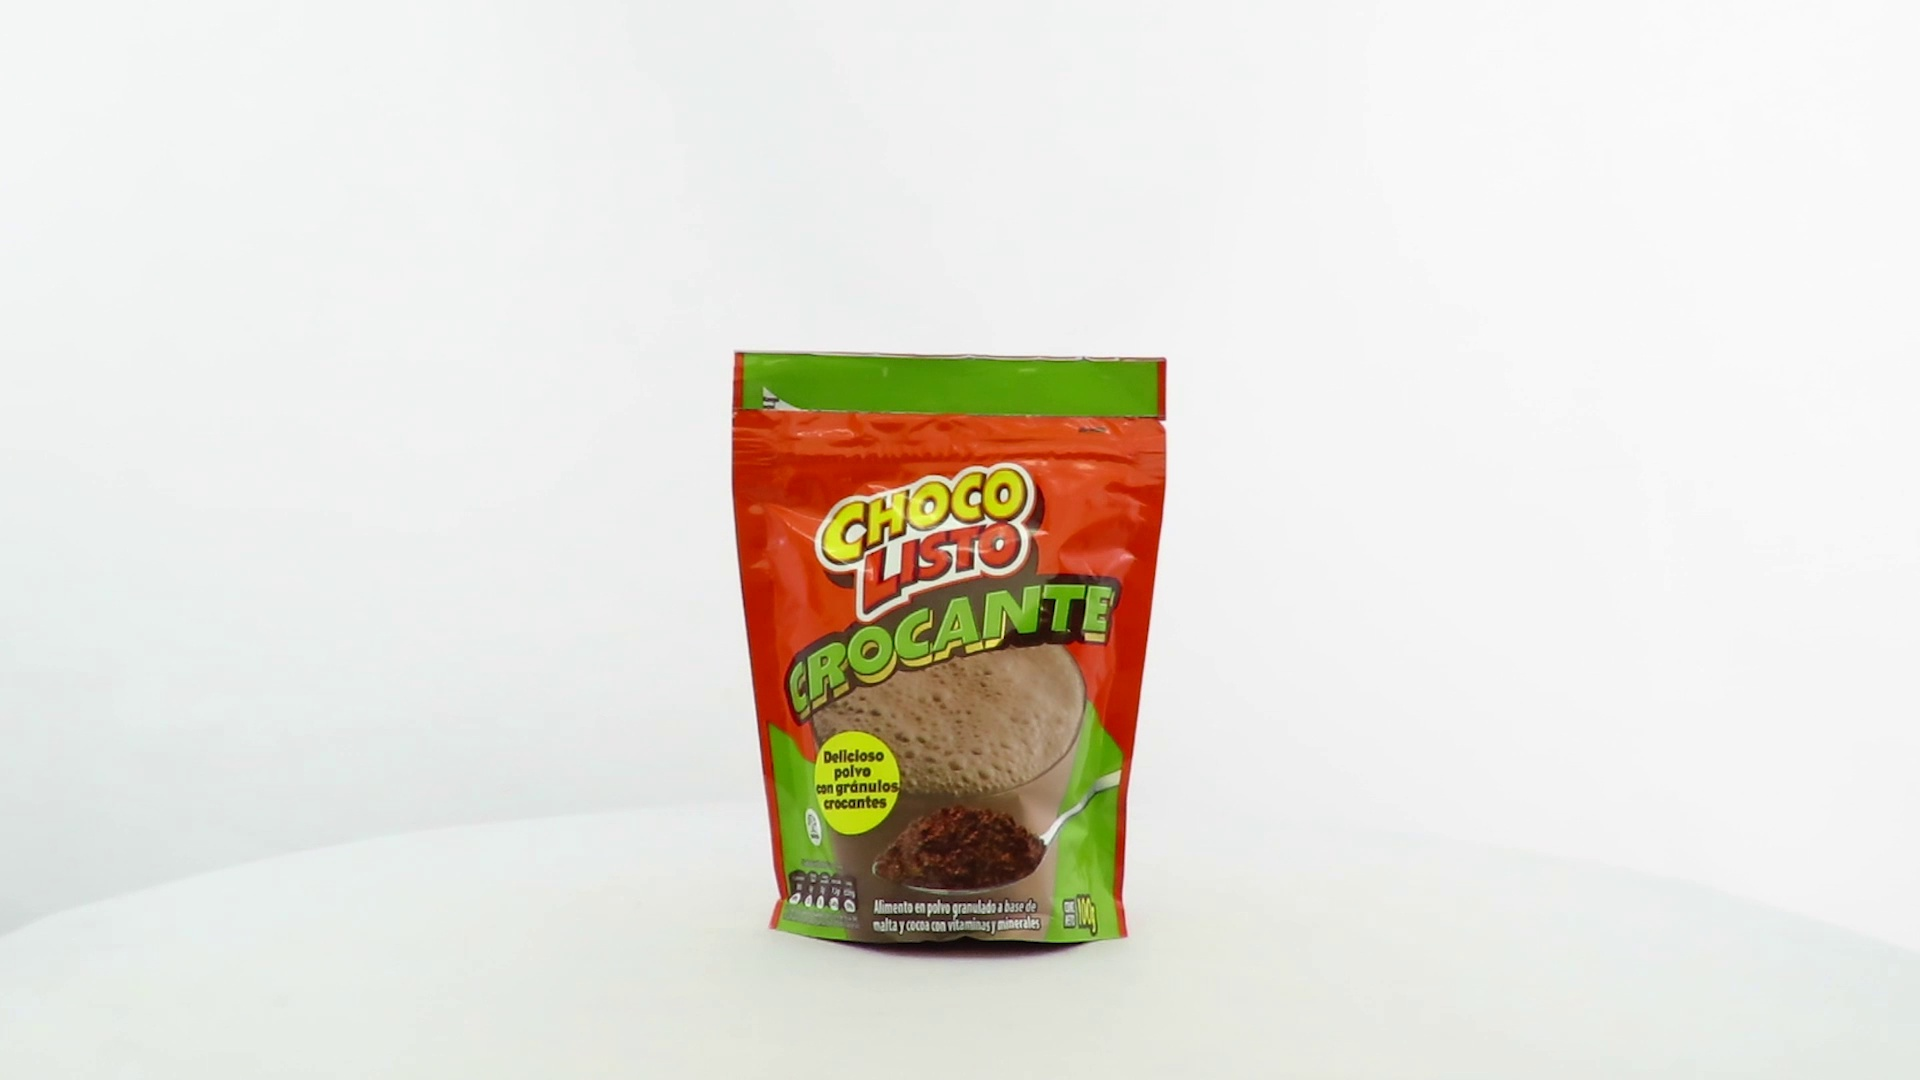COL0170102DYP10000: (727, 345, 1174, 965)
